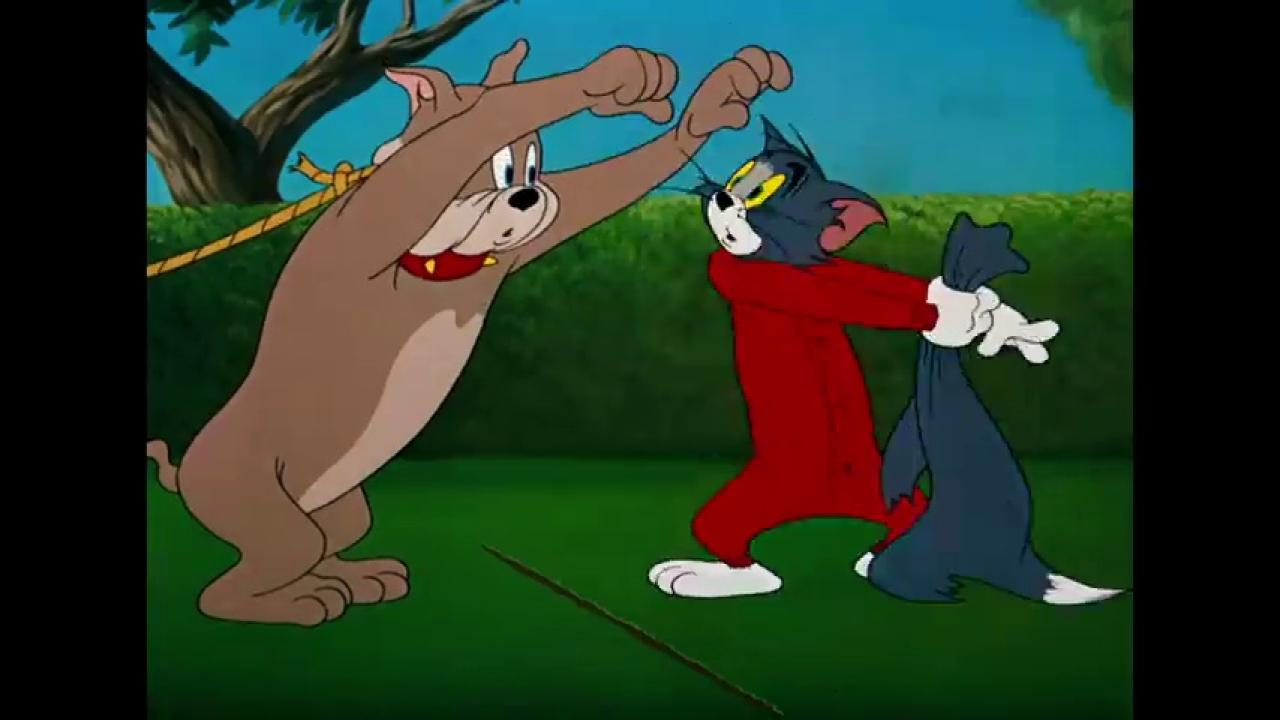Tom: (644, 110, 1065, 606)
